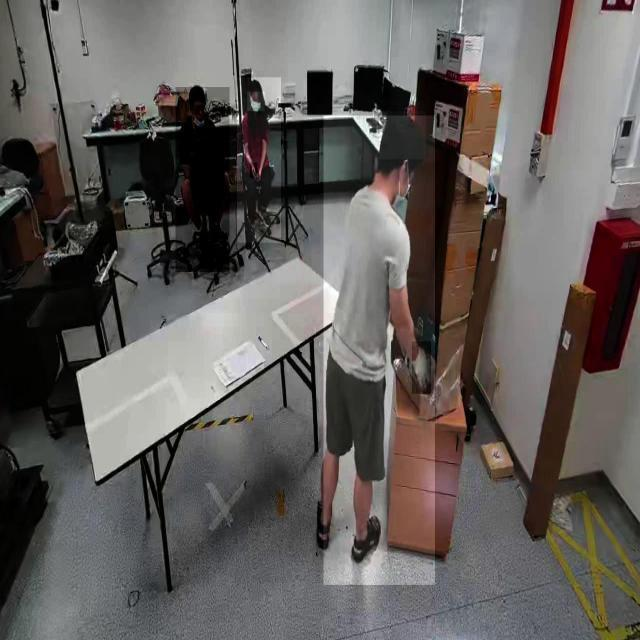gloves: (412, 342, 432, 394)
